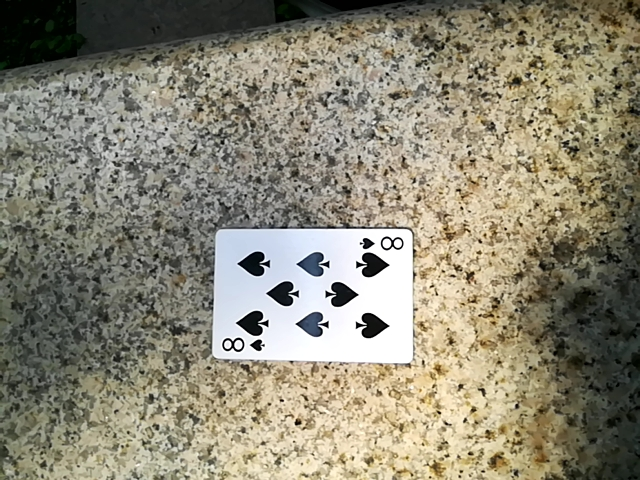ht 8: (199, 226, 408, 367)
